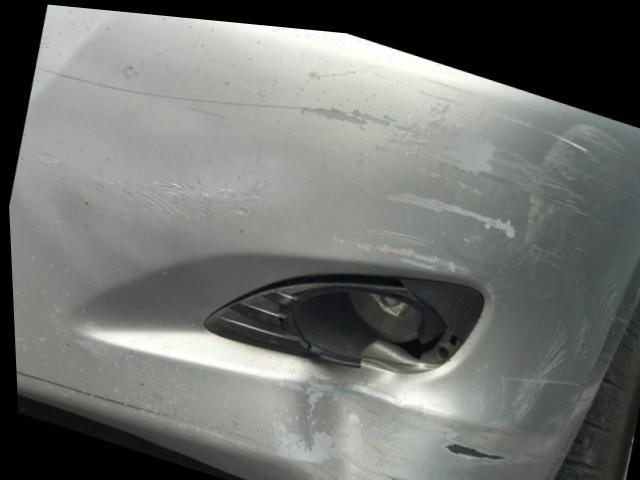dent: (283, 360, 447, 480)
scratch: (314, 55, 625, 480), (76, 165, 272, 222)
